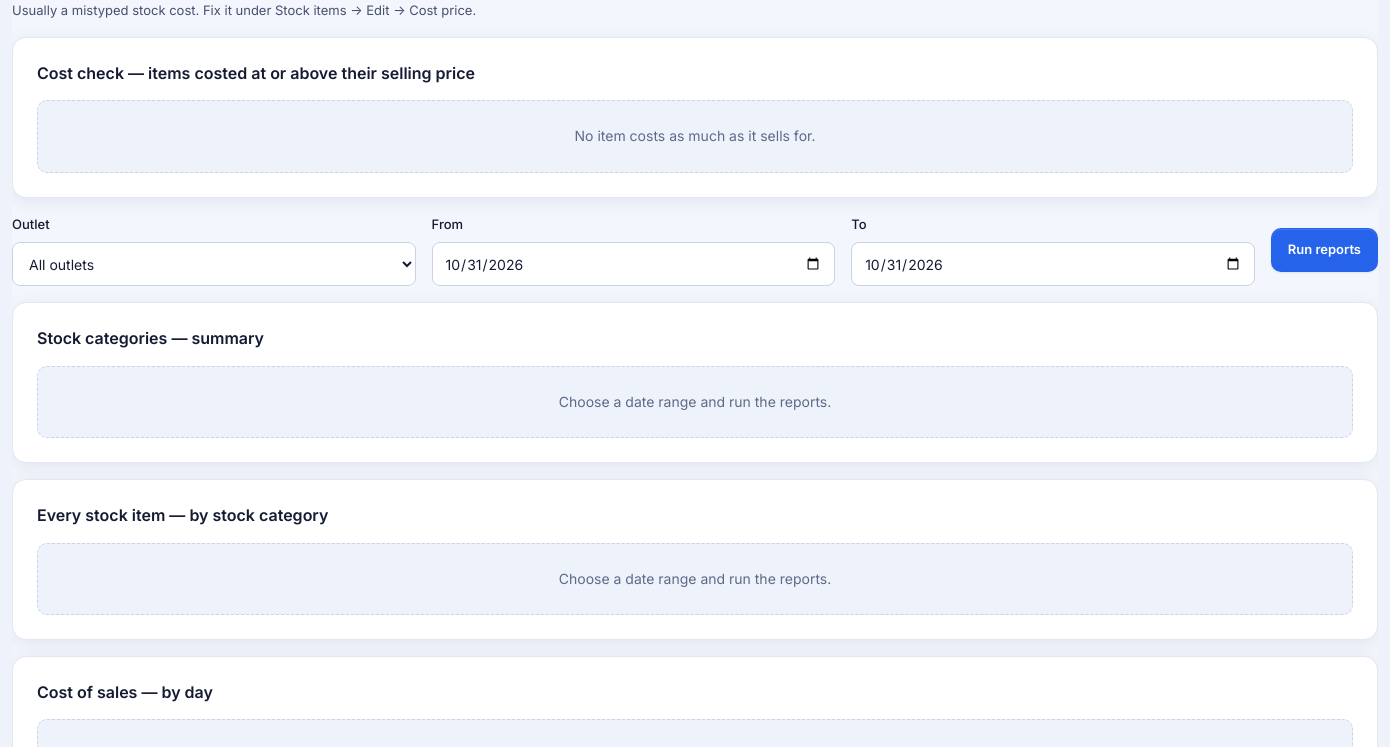
<StockReportsTab> › every category and item, and the movement history (gap closure) › the existing cost-of-sales and variance tables now show each item's category
The width and height of the screenshot is (1390, 747).
Click the button "Run reports" at (1324, 250), box [1271,228,1378,272]
(page scrolled)
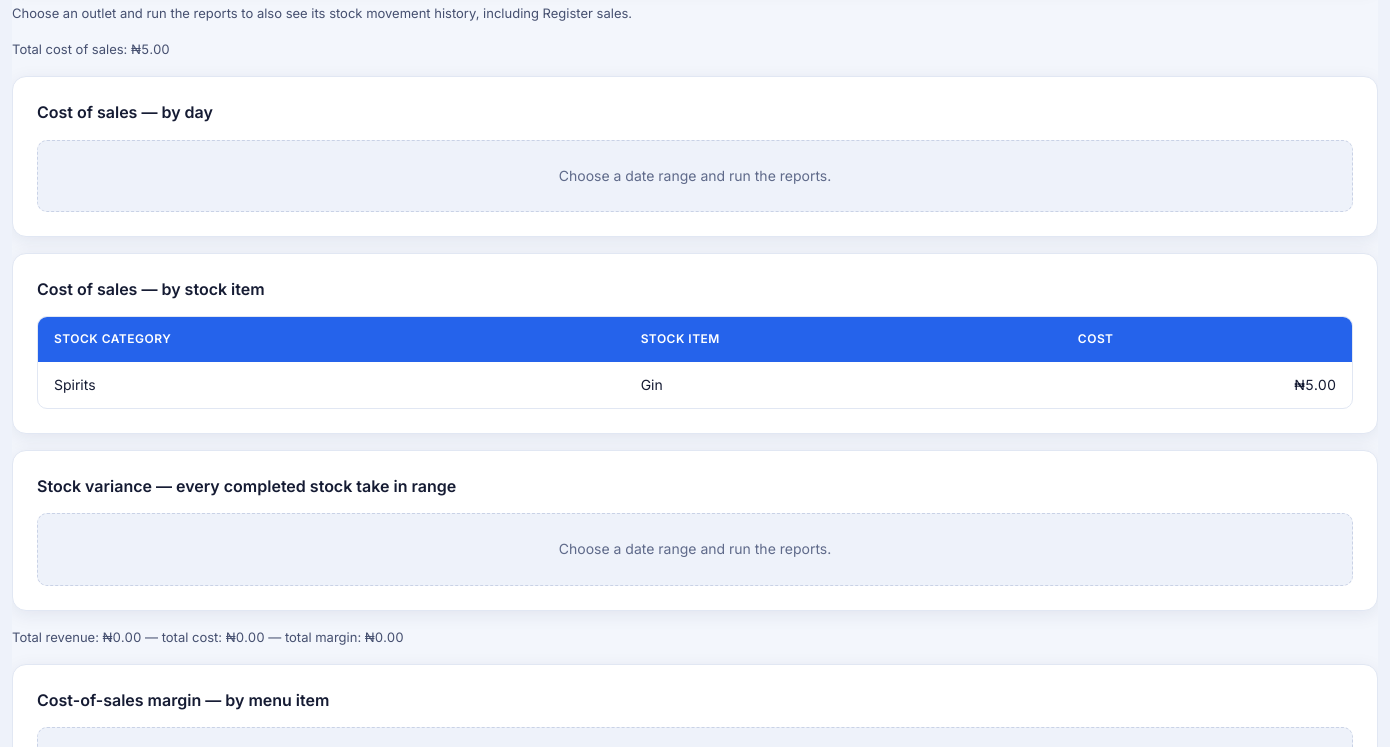
Expected: the text "Spirits" is shown, [38,361,625,408]
